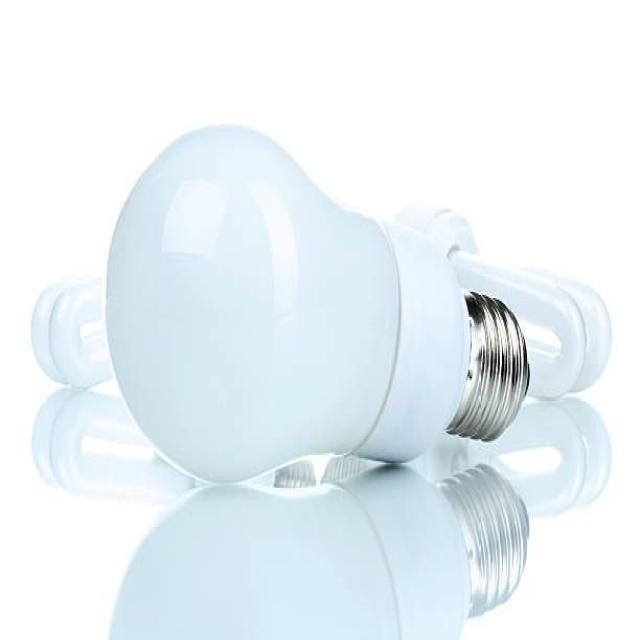electronic: (100, 119, 530, 486), (107, 456, 529, 638), (395, 202, 612, 400)
